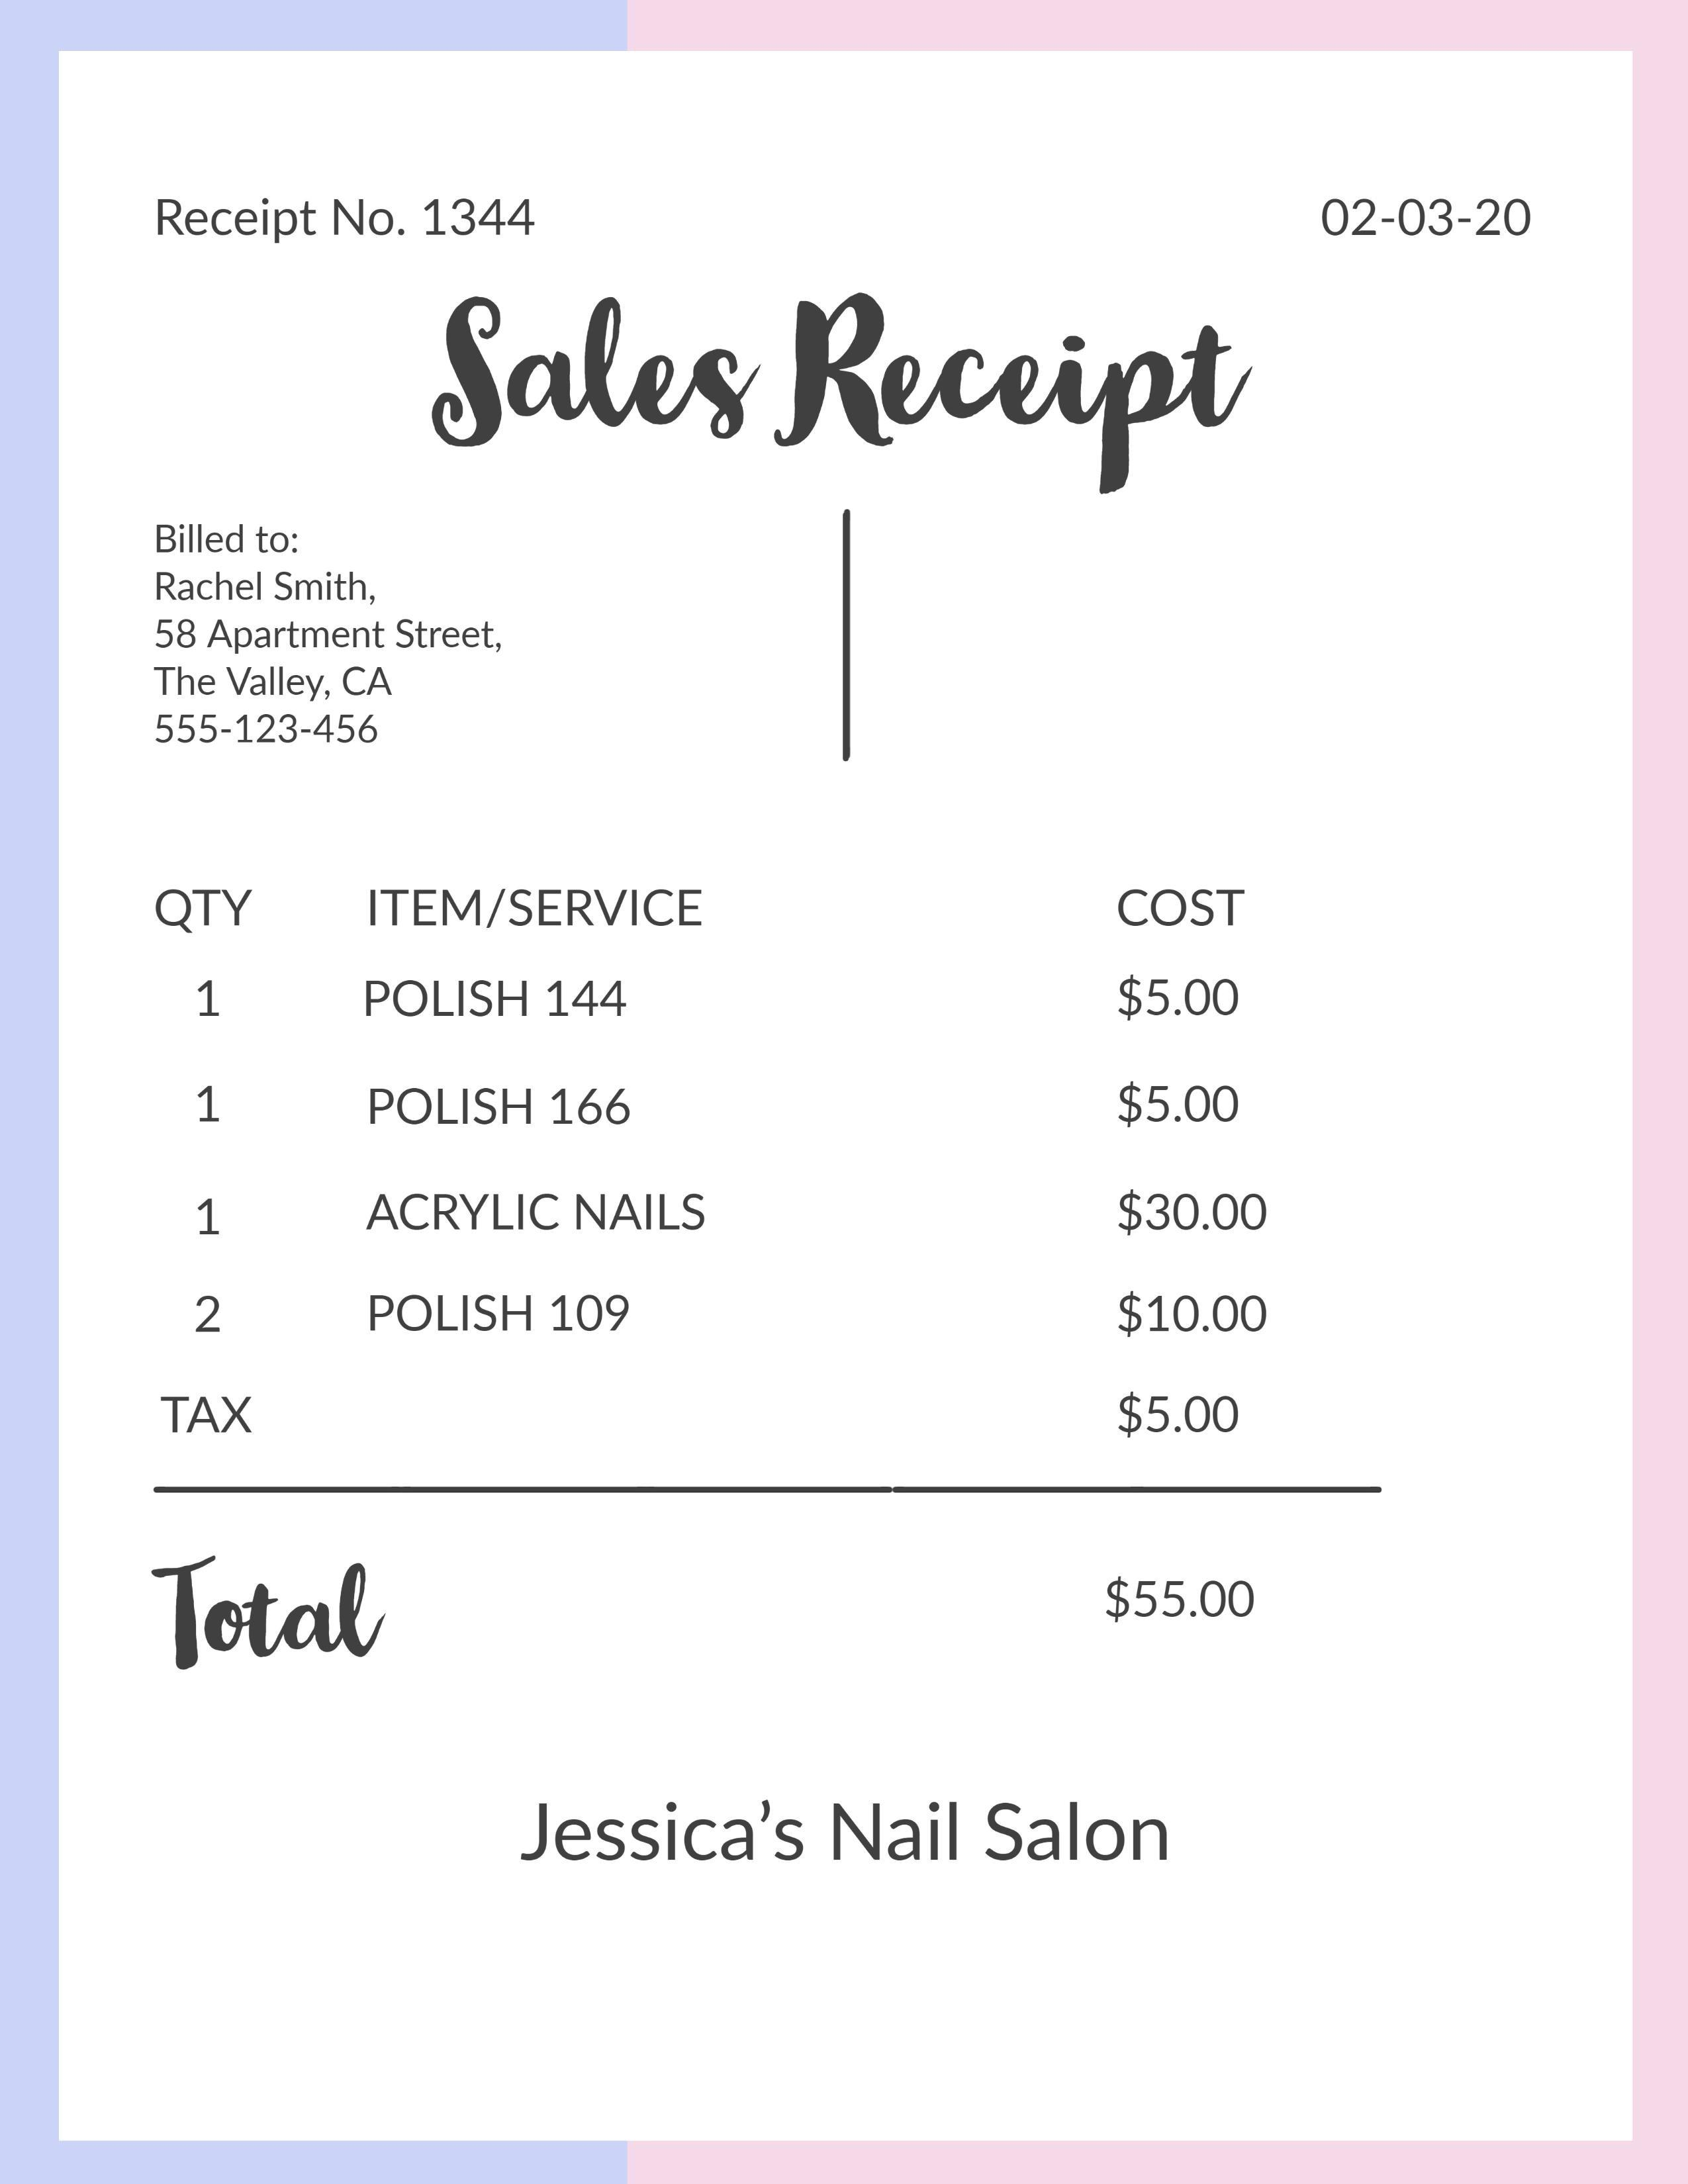ROI: (152, 883, 1278, 1340), (138, 1374, 1275, 1675), (145, 509, 523, 755), (156, 188, 1546, 245), (512, 1794, 1176, 1876)
